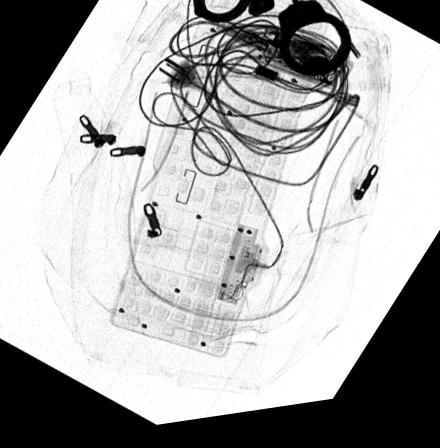HandCuffs: (266, 0, 351, 87), (192, 0, 273, 29)
